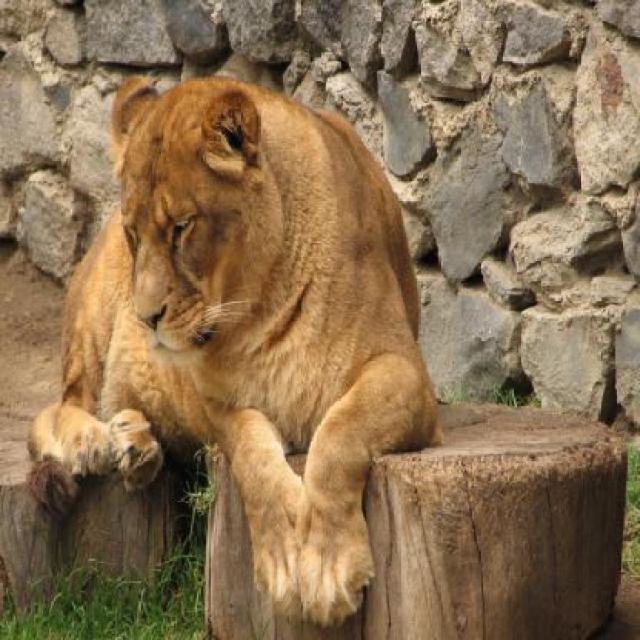Lion: (25, 61, 437, 638)
